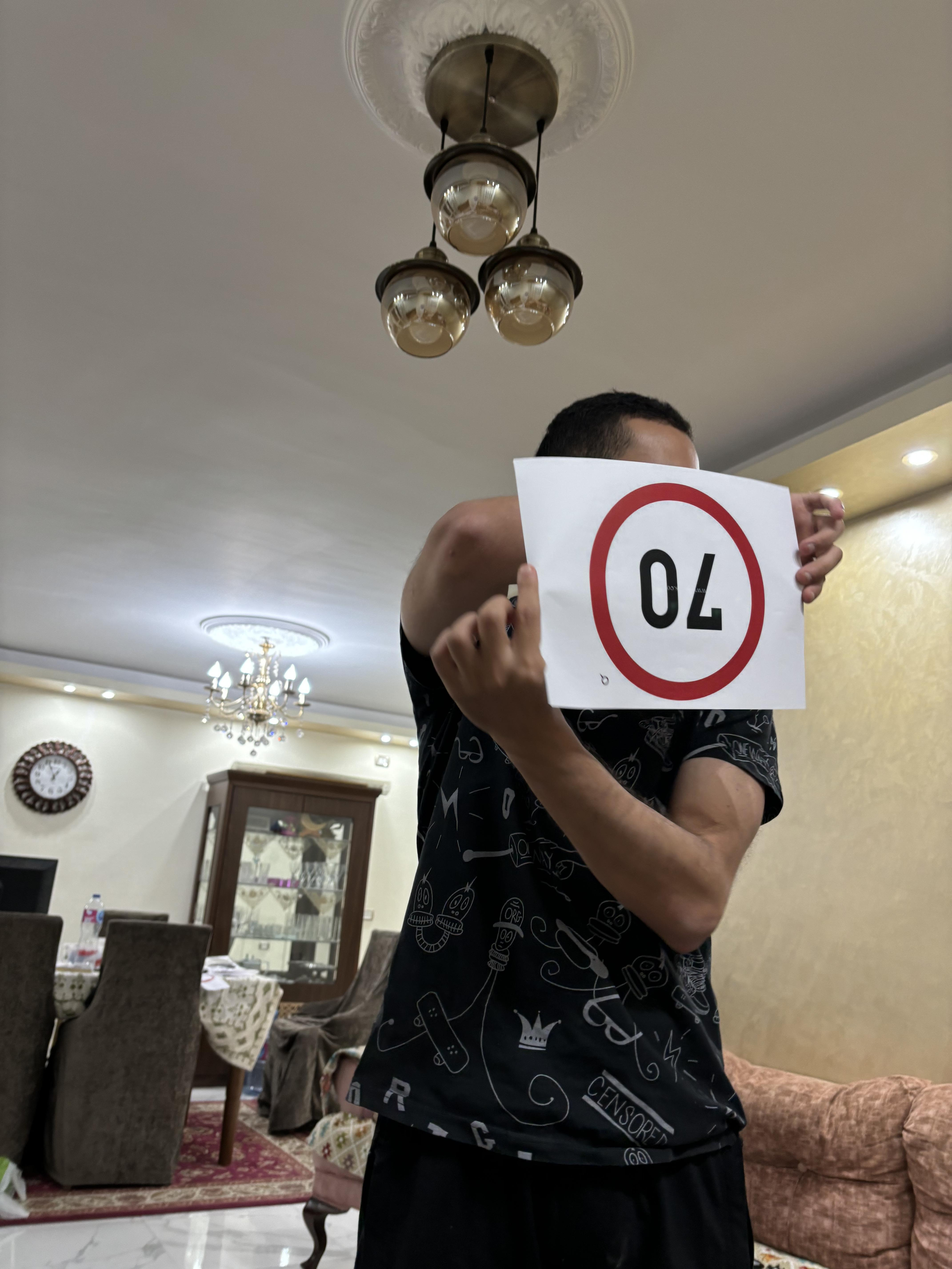70-Speed: (585, 469, 770, 703)
